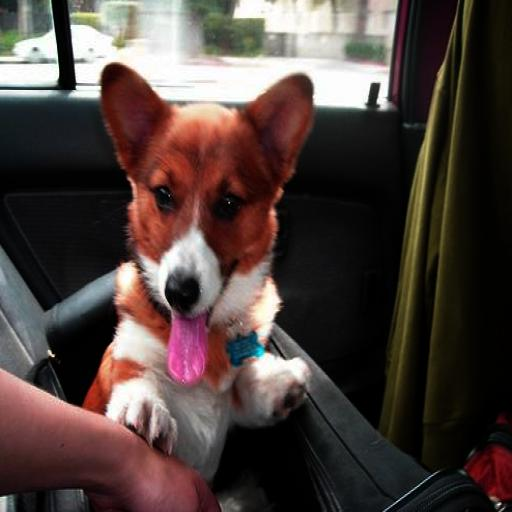dog_face: (91, 62, 304, 340)
